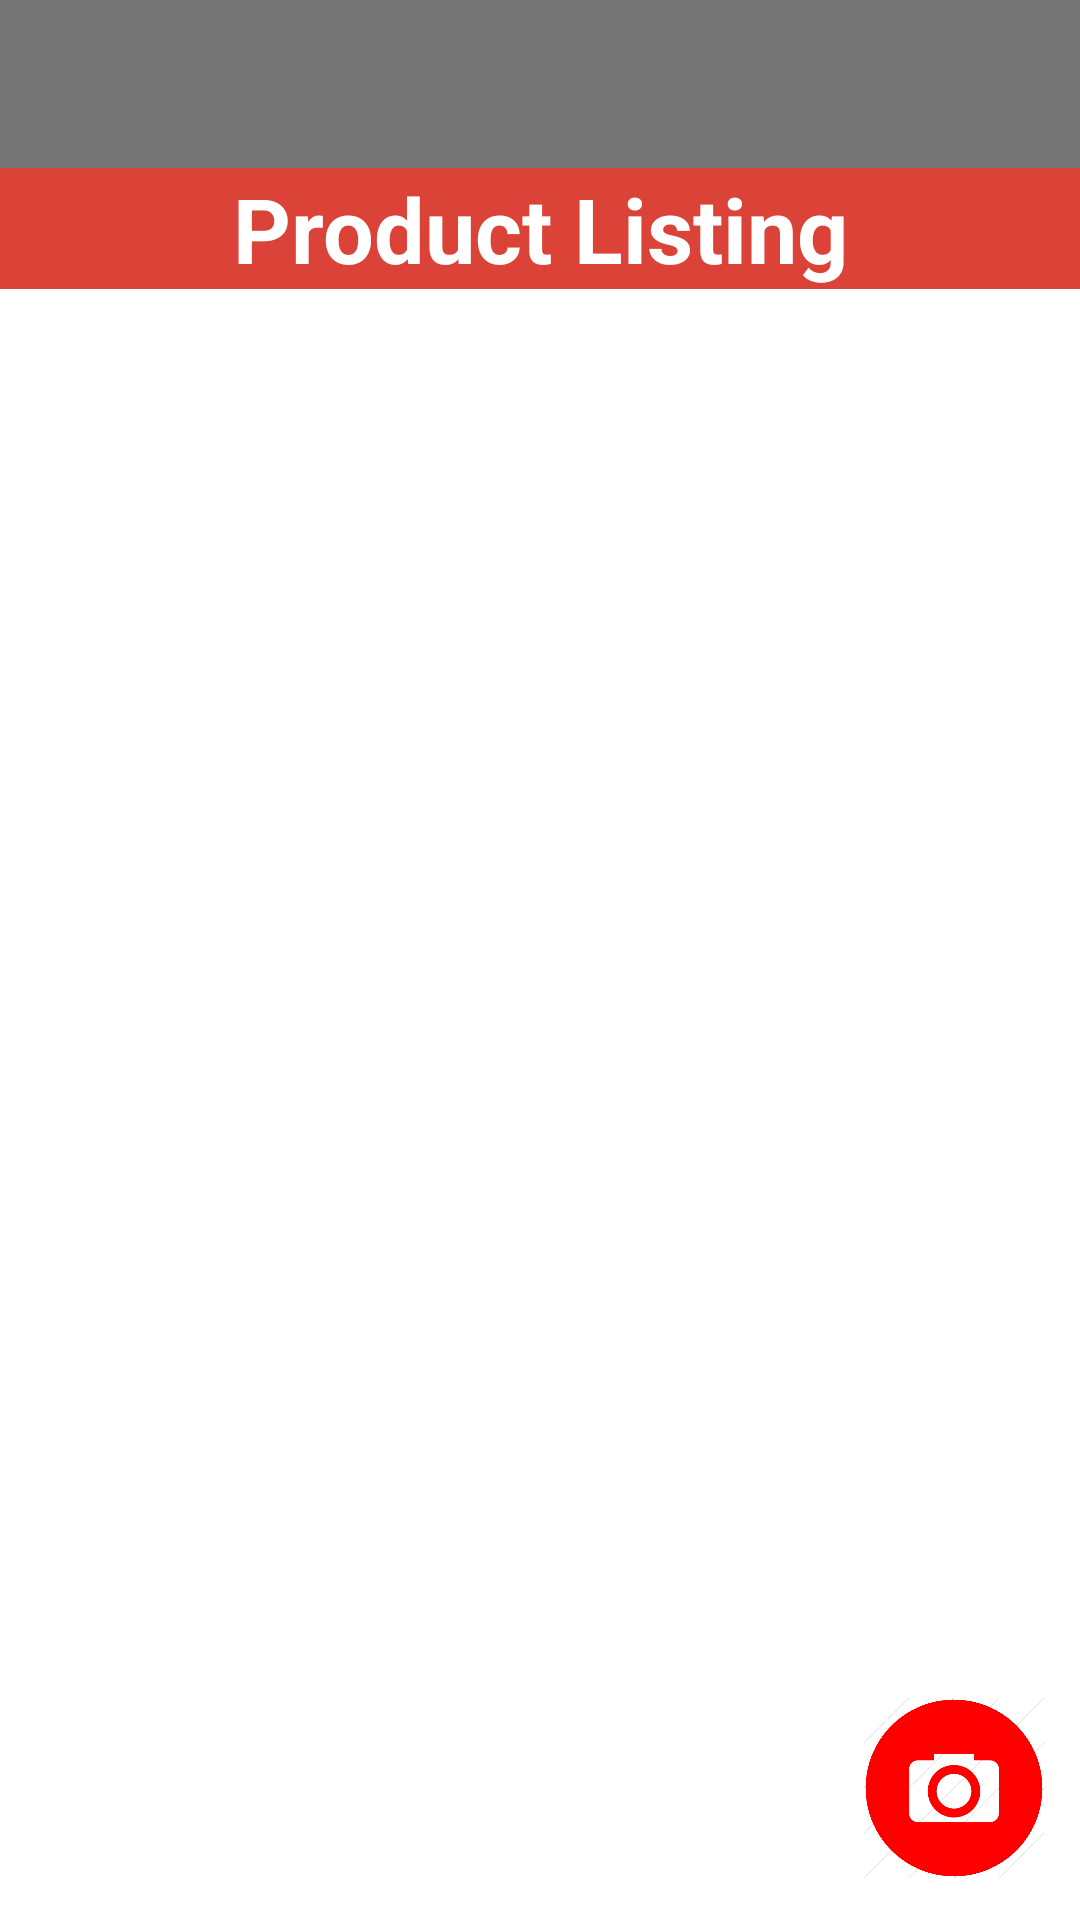

Named icons in this screenshot (1080×1920) and their bounding boxes, box(x1, y1, x2, y2):
camera: box(864, 1698, 1044, 1878)
